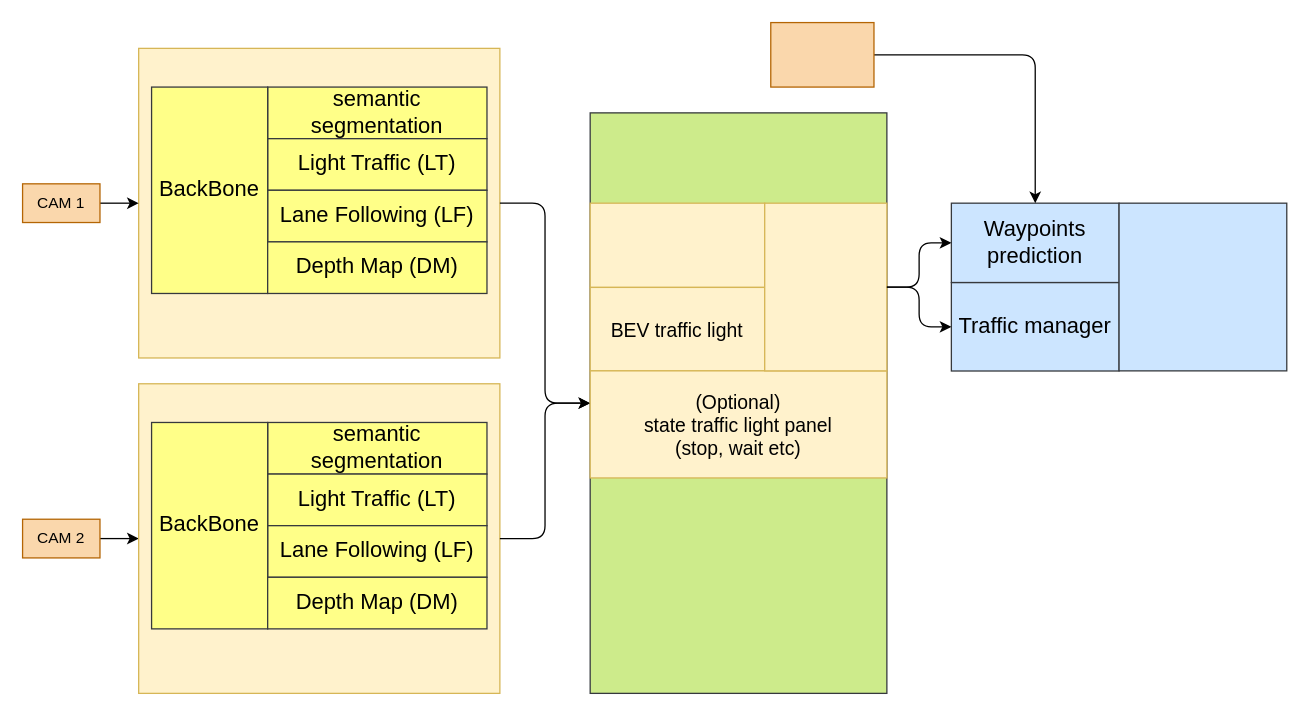
Image size: 1309x716. Some labels were removed from this diagram. Here are the shapes that lost their labels. From the top down, the box of each, then its label:
(769, 21, 874, 87): Google Map 2D API
(589, 202, 765, 287): BEV occupancy ( highter: 0-20 cm)
(763, 202, 887, 371): Fusion BEV 2D traffic lights
(1118, 202, 1287, 371): Control trajectory
(589, 112, 887, 693): BEV Transformer
